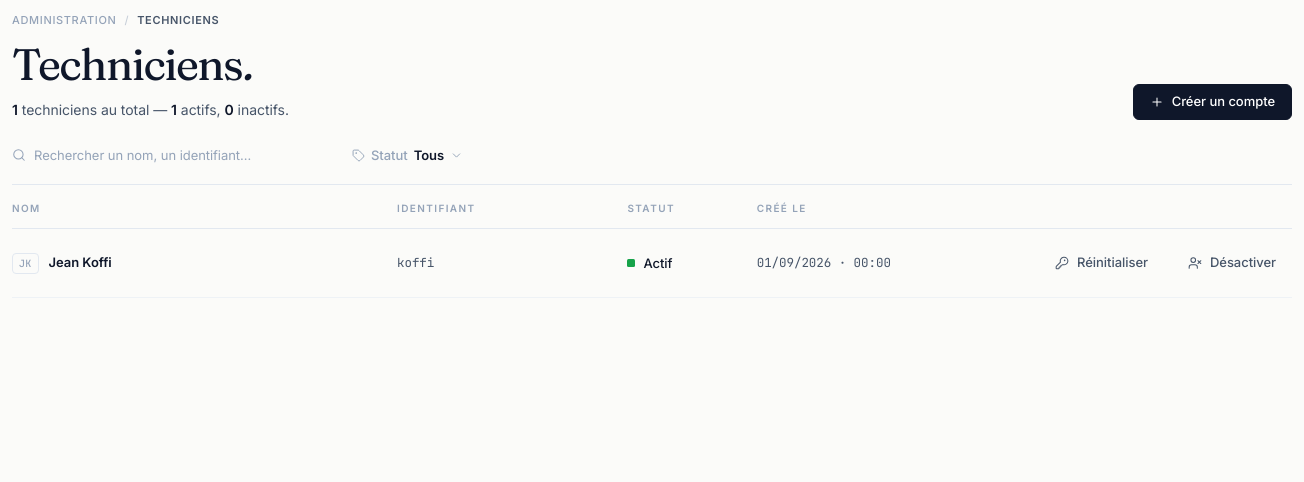
Scenario: TechniciensListe › affiche un message distinct quand un filtre ne trouve aucun technicien
The image size is (1304, 482).
Expected: the text "Jean Koffi" is shown, [48, 253, 112, 273]
Type "introuvable" into the field named "Rechercher un technicien". click: x=183, y=155
box: [34, 146, 332, 165]
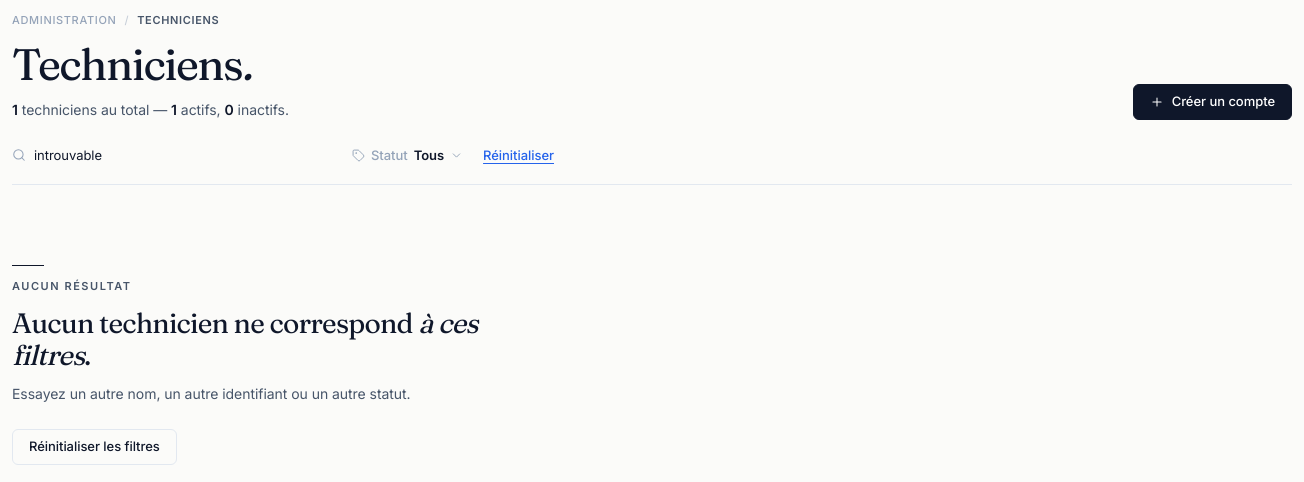
Expected: the heading "Aucun technicien ne correspond à ces filtres." is shown, [12, 307, 532, 371]
Click the button "Réinitialiser les filtres". click: x=94, y=447
box: [12, 429, 177, 465]
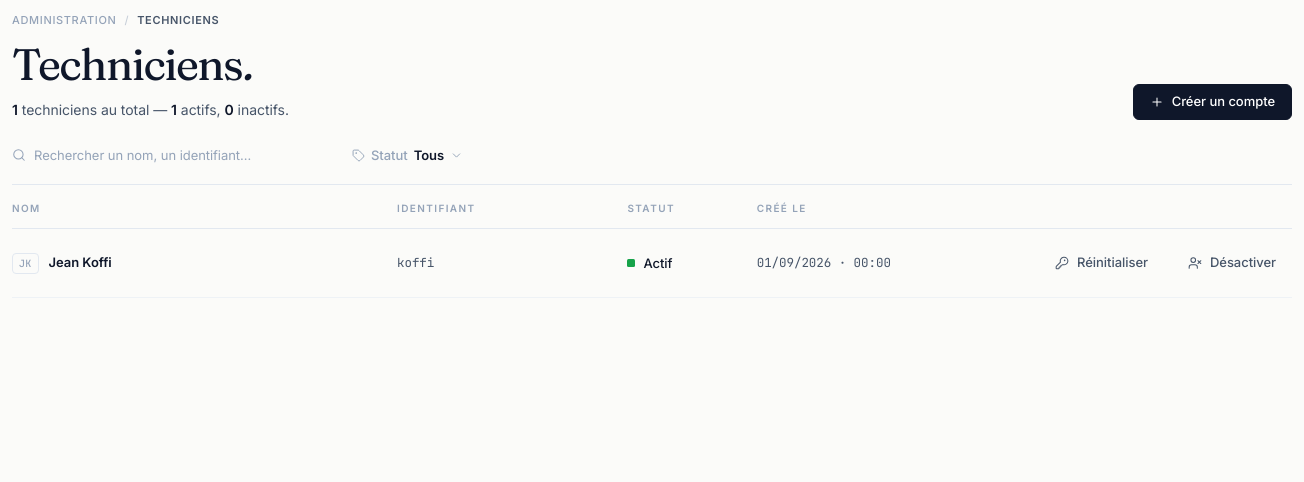
Expected: the text "Jean Koffi" is shown, [48, 253, 112, 273]
